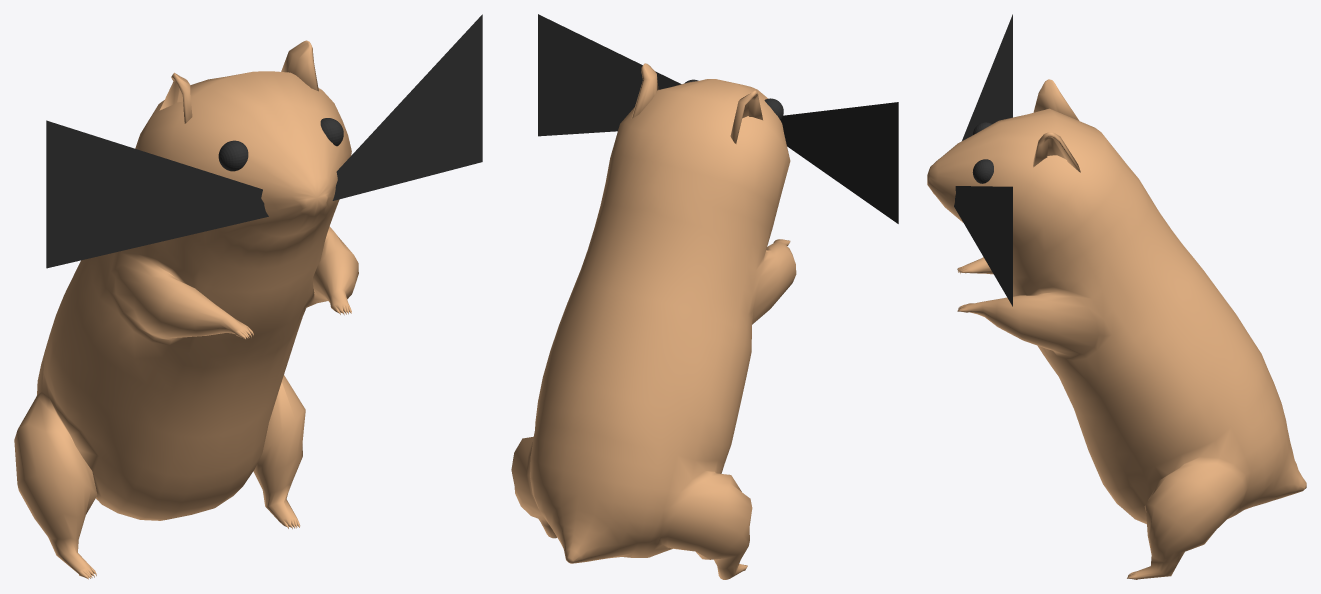
File: HamsterDefault.fbx
3 views of the same model, side by side, from view 1: azimuth 30°, elevation 25°; view 2: azimuth 150°, elevation 25°; view 3: azimuth 270°, elevation 25° (orthographic). The views are drawn at different scales.
Parts seen in each view (by area): view 1: Circle, Plane, Sphere; view 2: Circle, Plane; view 3: Circle, Plane, Sphere.
Boxes of the visible parts, bbox=[...] form: Circle: bbox=[14, 40, 358, 579]; Plane: bbox=[46, 14, 482, 268]; Sphere: bbox=[218, 118, 343, 171]; Circle: bbox=[511, 63, 796, 579]; Plane: bbox=[538, 14, 898, 223]; Circle: bbox=[927, 79, 1306, 579]; Plane: bbox=[954, 14, 1012, 306]; Sphere: bbox=[972, 122, 993, 183].
Size of the model in its own units: 13.56 by 16 by 12.58.
